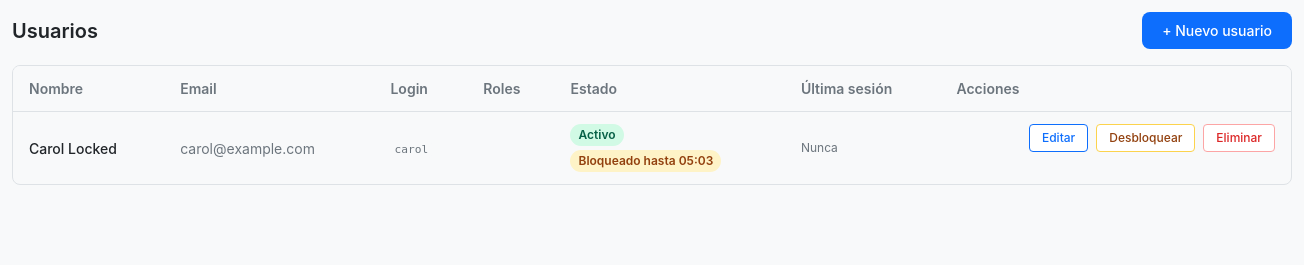
Test: RbacUsersBody › shows error toast when unlock mutation fails
This screenshot has width=1304, height=265.
What coordinates should you click on to do the following:
click the button "Desbloquear"
I would click on:
 (1146, 138)
Its box is x1=1096 y1=124 x2=1195 y2=152.
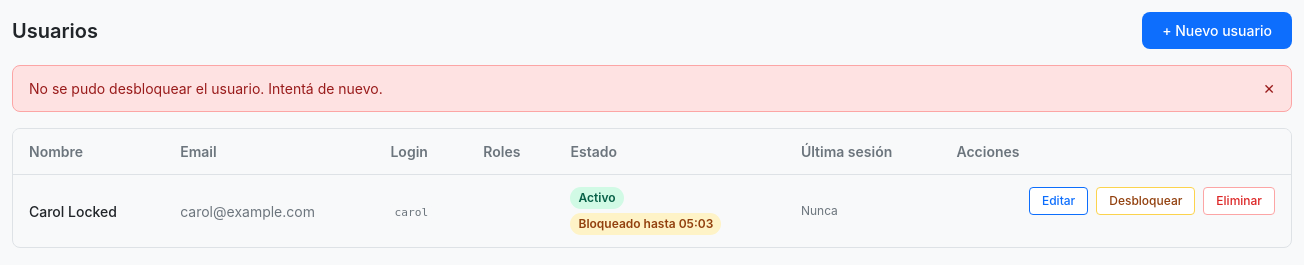
Result: the text "No se pudo desbloquear el usuario. Intentá de nuevo. ✕" is shown at x1=12 y1=65 x2=1292 y2=112
